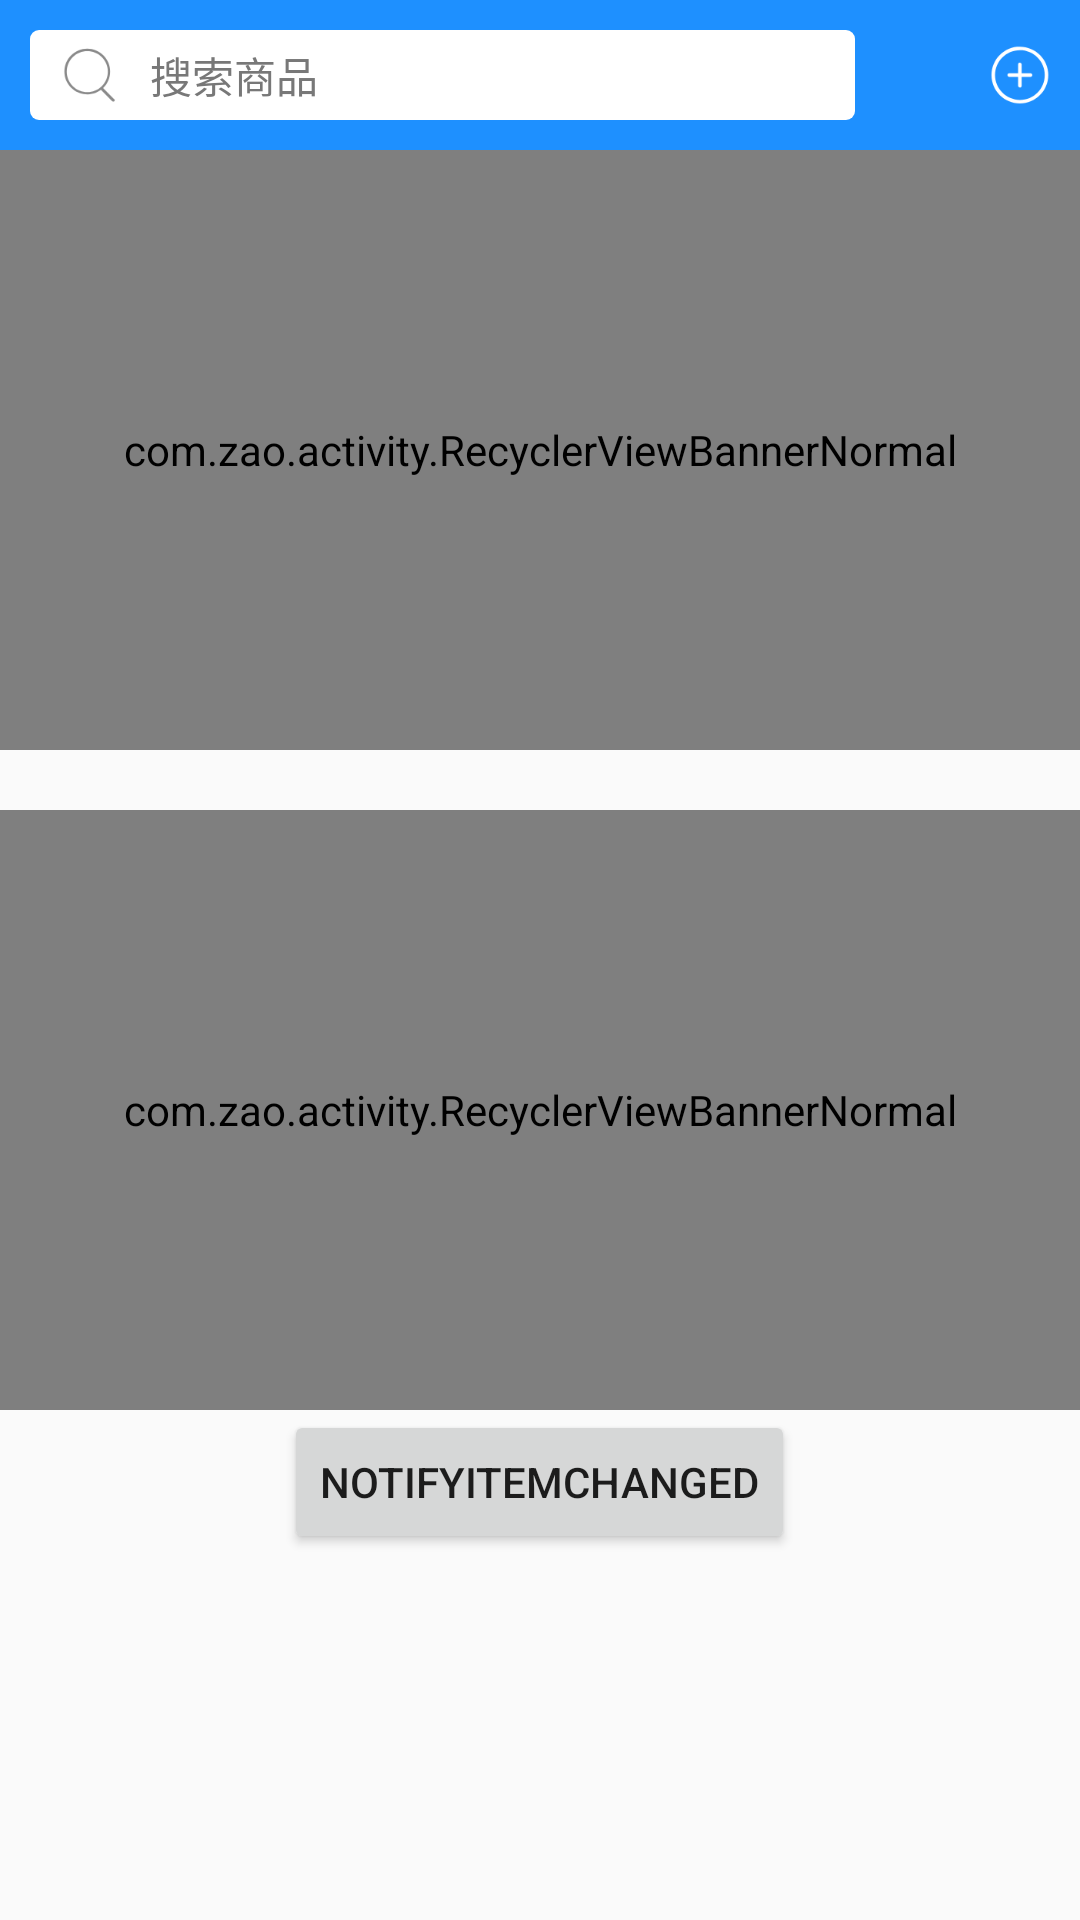

Icon bounding boxes for this 1080x1920 phone screenshot, format (left=x1, top=y1, right=x2, bottom=y2):
add: (left=991, top=46, right=1049, bottom=104)
search: (left=64, top=48, right=115, bottom=102)
